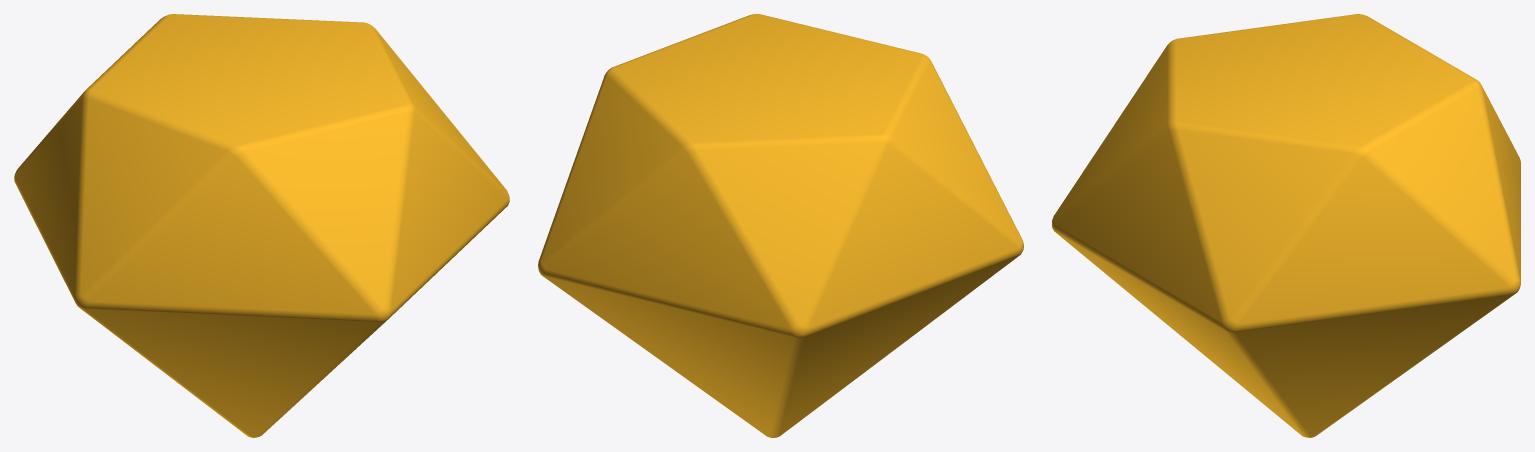
File: diamond_teamYellow.glb
The picture shows the model from 3 angles, left to right: view 1: azimuth 30°, elevation 25°; view 2: azimuth 150°, elevation 25°; view 3: azimuth 270°, elevation 25°; orthographic projection.
Parts seen in each view (by area): view 1: diamond_teamYellow; view 2: diamond_teamYellow; view 3: diamond_teamYellow.
Part boxes in pixels (box(x1,y1,x2,y2)): diamond_teamYellow: box(14, 14, 509, 437); diamond_teamYellow: box(538, 14, 1023, 437); diamond_teamYellow: box(1052, 14, 1520, 437).
Bounding box in the file's own units: 1.13 × 0.9057 × 1.08.
